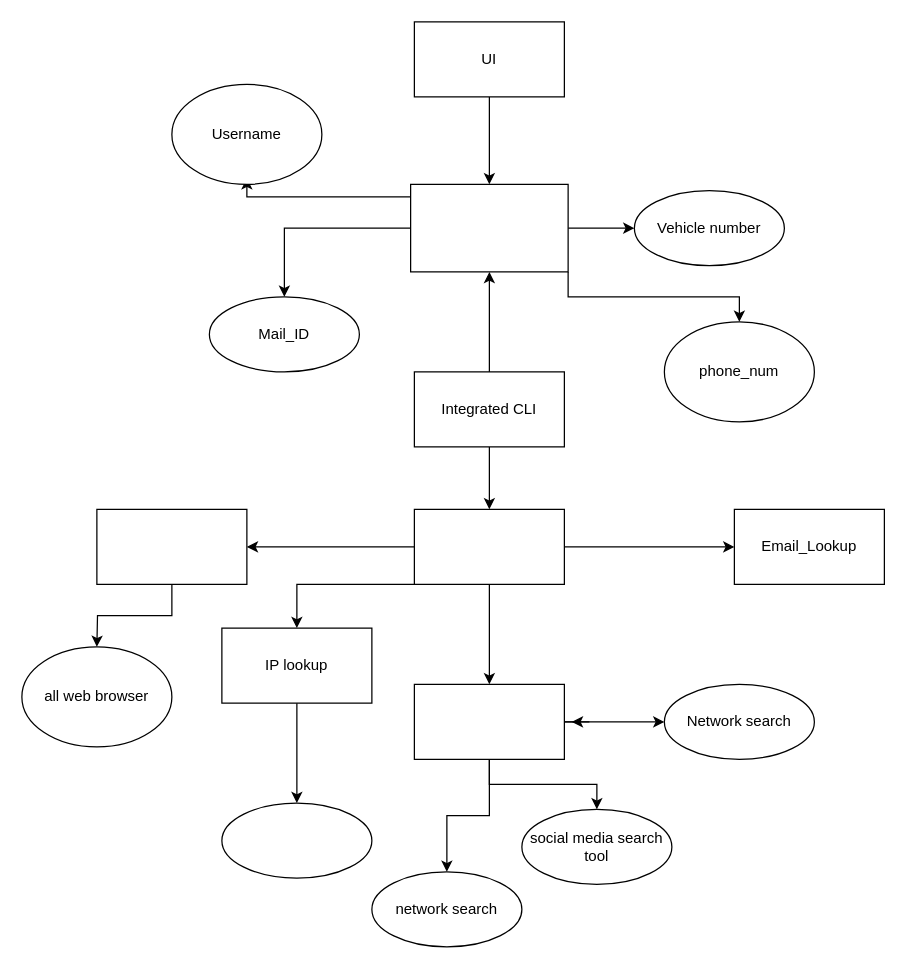
This 906x969 diagram has some shape labels left out. The centre of each missing label's shape, as x and y in pixels:
Phone number lookup: (488,721)
search: (488,227)
TOOLS-modsouls: (488,546)
Username/ Websearch: (171,546)
who is: (296,840)
